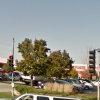Car: (63, 73, 94, 93)
